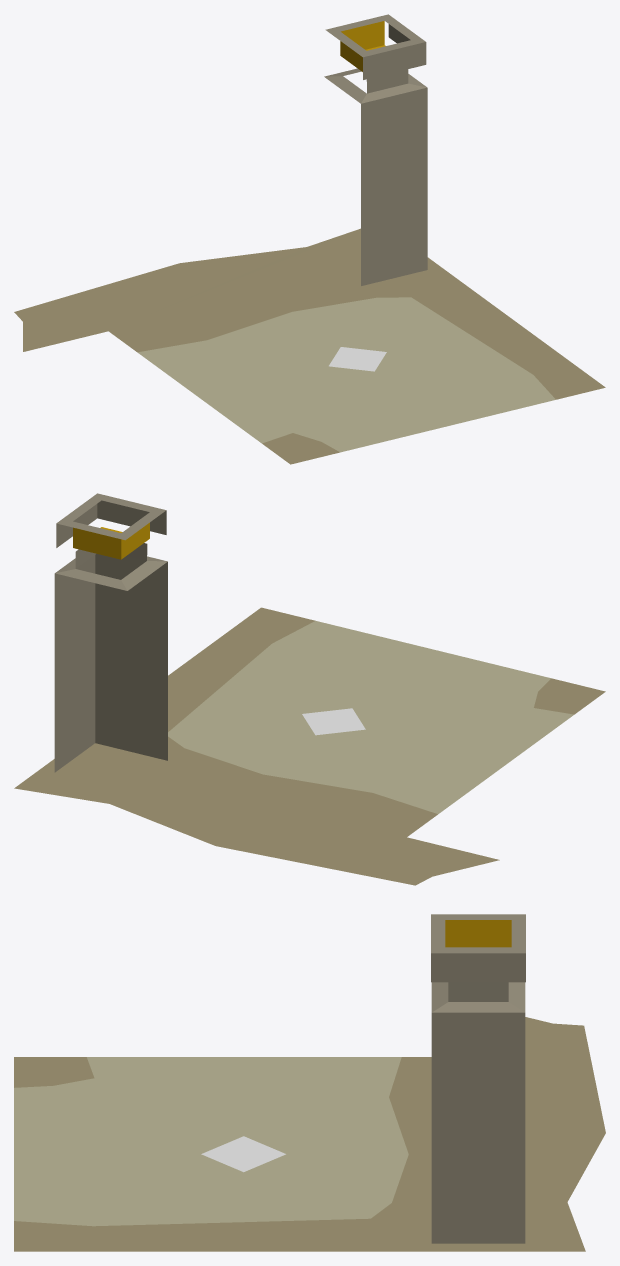
Rendered from Run Right to Left.fbx.
The picture shows the model from 3 angles, top to bottom: view 1: azimuth 30°, elevation 25°; view 2: azimuth 150°, elevation 25°; view 3: azimuth 270°, elevation 25°; orthographic projection. The views are drawn at different scales.
Visible parts, largest first — view 1: polySurface7481; view 2: polySurface7481; view 3: polySurface7481.
Boxes of the visible parts, x1,y1,x2,y2 form: polySurface7481: [14, 14, 605, 464]; polySurface7481: [14, 493, 605, 885]; polySurface7481: [14, 914, 605, 1251].
Size of the model in its own units: 127 by 69.3 by 129.
